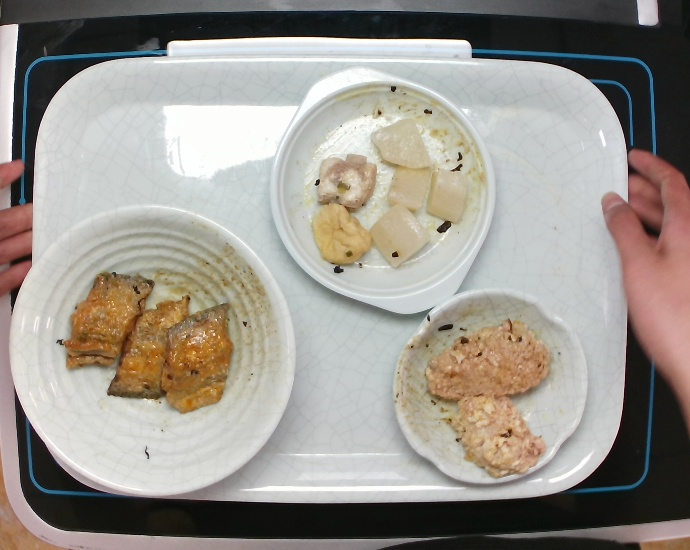JYsf-Ao_Yuan_Wan: (388, 288, 596, 494)
JYsf-Shuang_Er_Pan: (266, 66, 501, 321)
JYsf-Xiao_Tang_Wan: (2, 199, 302, 503)
